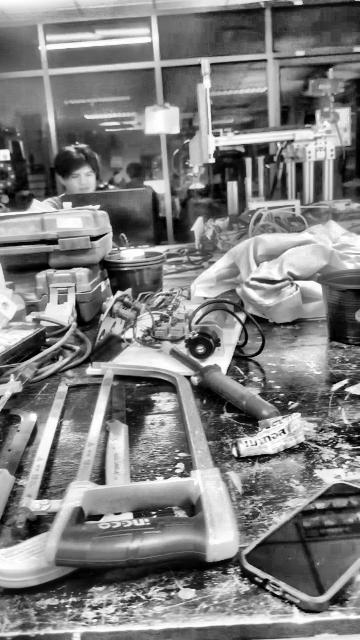pot: (316, 269, 359, 347)
